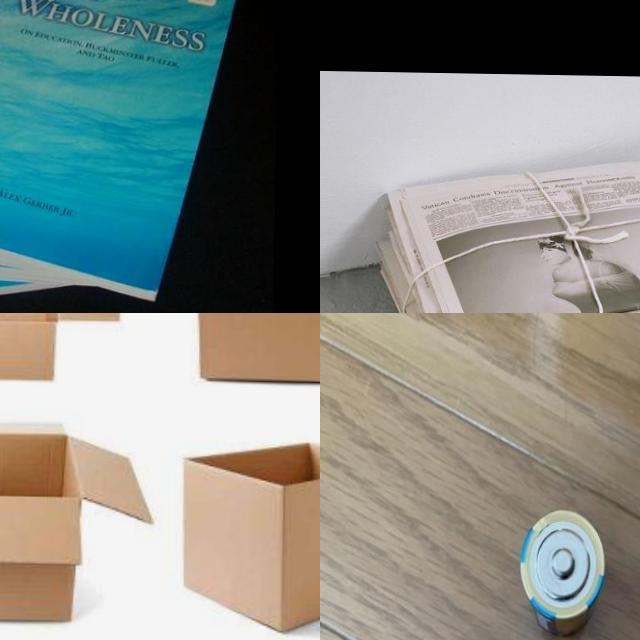bateria: (512, 502, 608, 639)
garrafa plástica: (0, 418, 151, 624), (177, 435, 320, 636), (155, 313, 320, 386)
papel: (0, 0, 244, 313), (371, 154, 640, 313)
